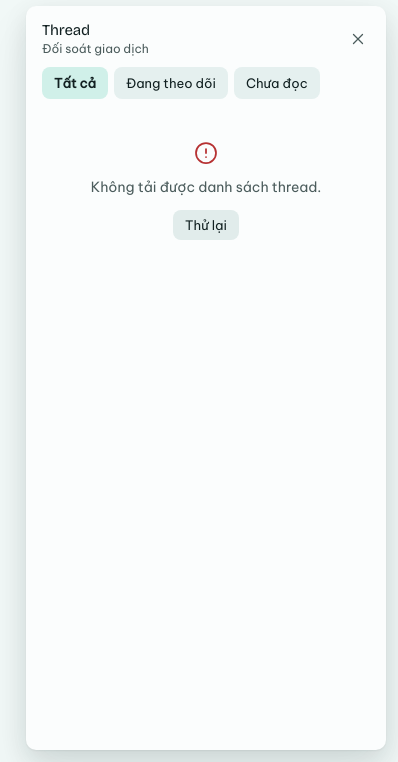
it: ThreadsPanel › has a retry when the list cannot be loaded
The image size is (398, 762).
Check: the text "Không tải được danh sách thread." is shown, box top-left (91, 177), bottom-right (321, 198)
Click the button "Thử lại": (206, 225) top-left (173, 210), bottom-right (239, 240)
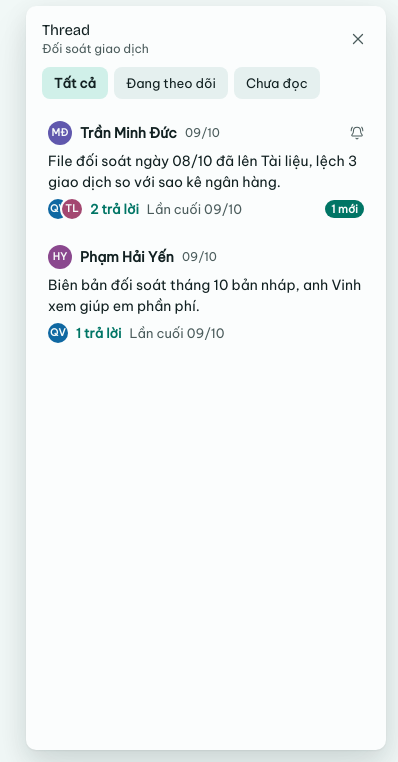
Check: the list named "Thread" is shown, box top-left (30, 109), bottom-right (382, 355)
